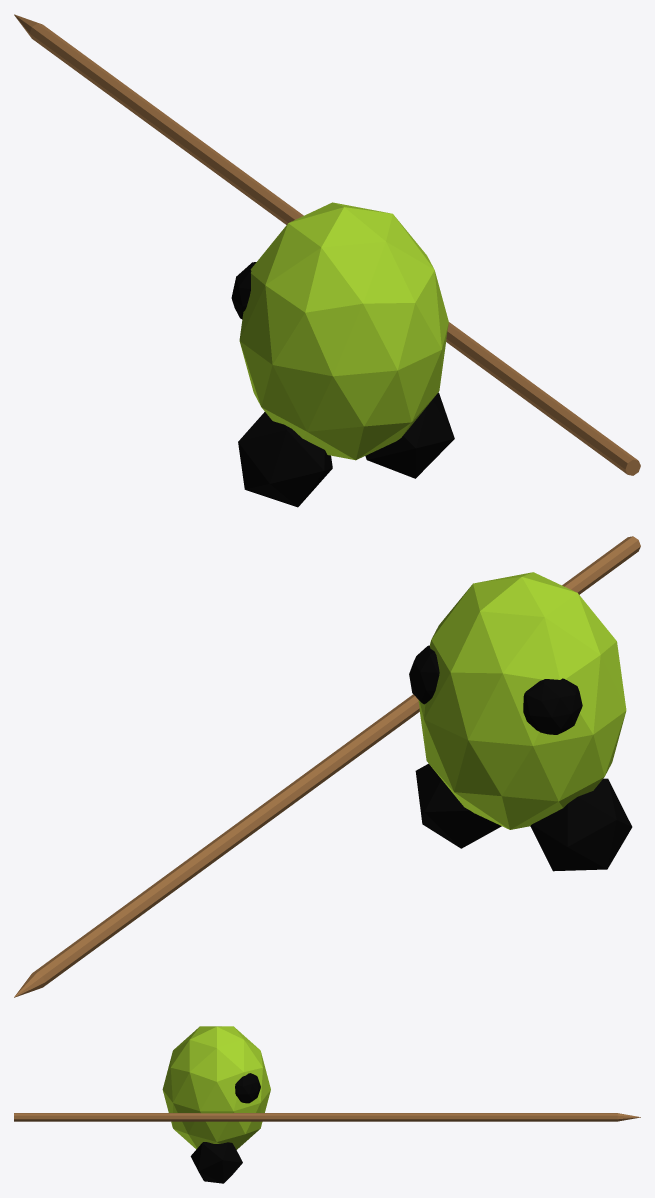
The model's file is stab.f0001.glb.
3 renders of one model, top to bottom at view 1: azimuth 30°, elevation 25°; view 2: azimuth 150°, elevation 25°; view 3: azimuth 270°, elevation 25°, orthographic. The views are drawn at different scales.
Parts seen in each view (by area): view 1: Body.001; view 2: Body.001; view 3: Body.001.
Boxes of the visible parts, x1,y1,x2,y2 form: Body.001: [14, 14, 640, 507]; Body.001: [14, 536, 640, 997]; Body.001: [14, 1026, 640, 1183].
Bounding box in the file's own units: 2.17 × 2.85 × 11.56.
Materials: 1 (1 with a texture image).
